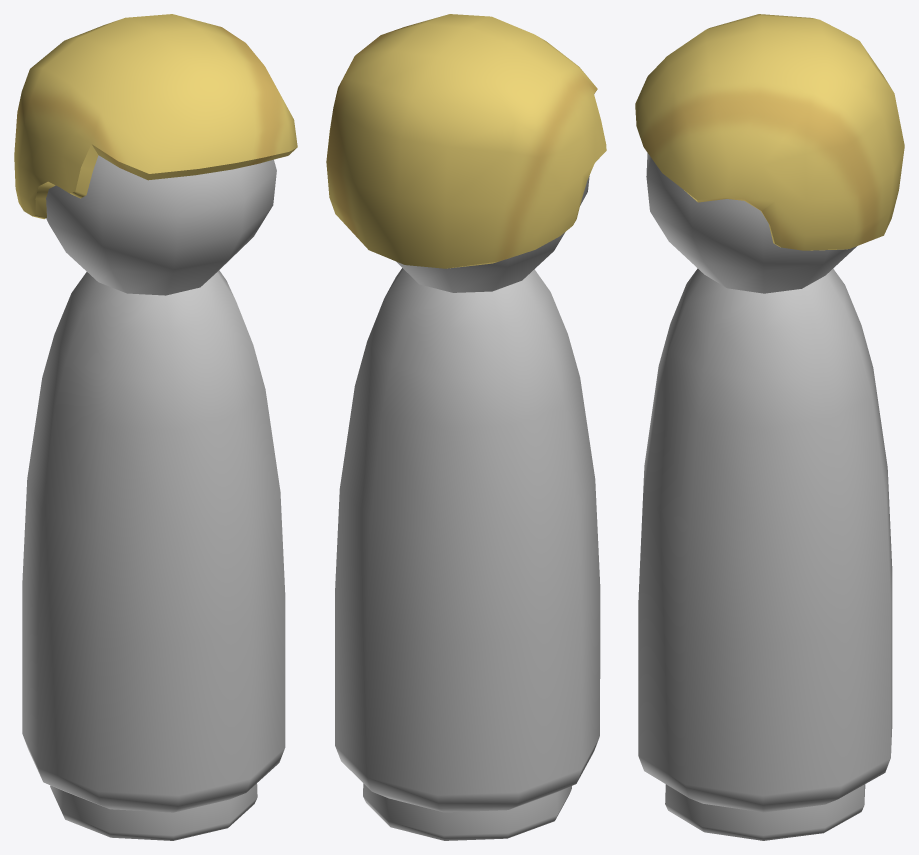
File: Peg_Dress_Short_YellowHair.fbx
3 views of the same model, side by side, from view 1: azimuth 30°, elevation 25°; view 2: azimuth 150°, elevation 25°; view 3: azimuth 270°, elevation 25° (orthographic).
Visible parts, largest first — view 1: Peg_Dress_Short_YellowHair; view 2: Peg_Dress_Short_YellowHair; view 3: Peg_Dress_Short_YellowHair.
Boxes of the visible parts, x1=… form: Peg_Dress_Short_YellowHair: x1=14, y1=14, x2=297, y2=840; Peg_Dress_Short_YellowHair: x1=326, y1=14, x2=606, y2=840; Peg_Dress_Short_YellowHair: x1=635, y1=14, x2=904, y2=840.
Bounding box in the file's own units: 1.92 × 5.9 × 1.87.
